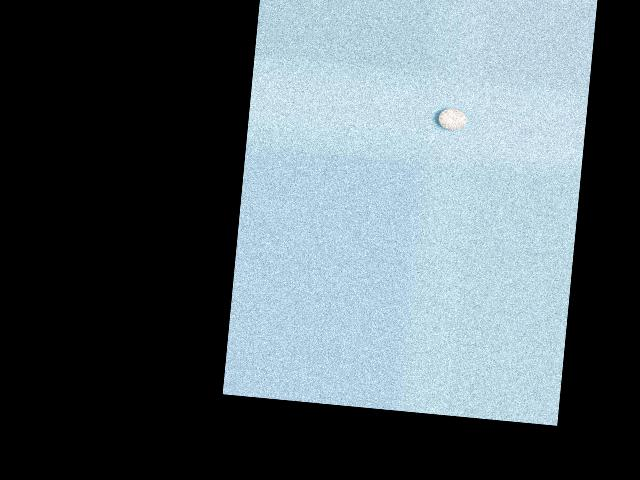egg: (437, 107, 467, 131)
